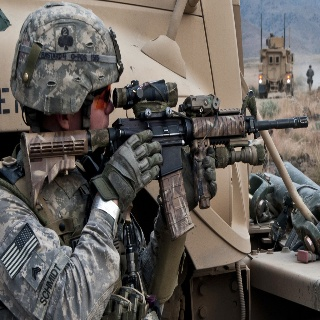rifle: (19, 78, 309, 242)
